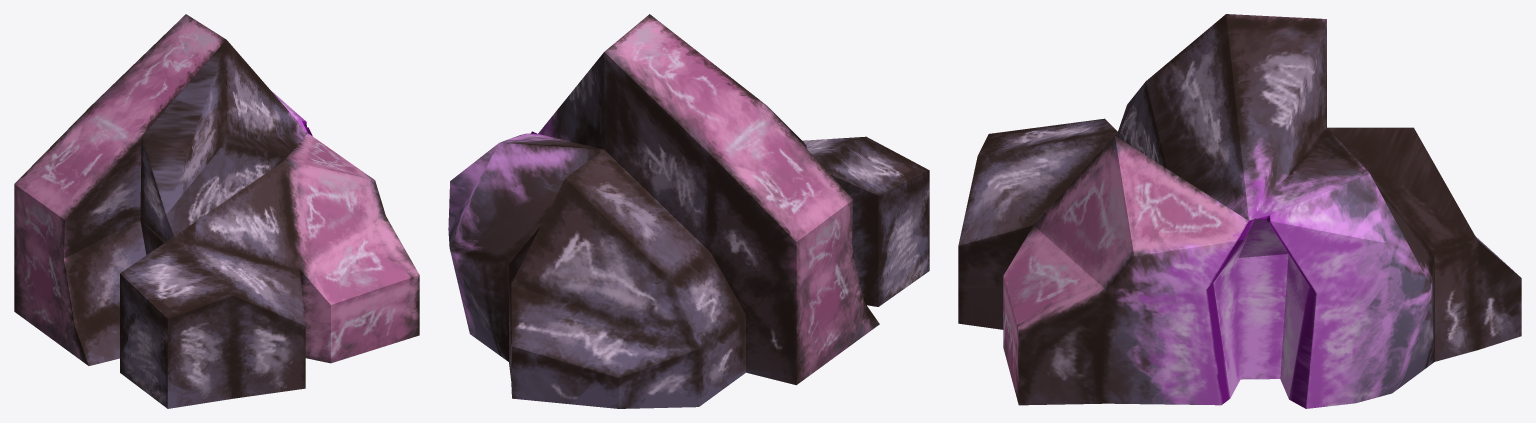
Rendered from Key_Hole.fbx.
3 views of the same model, side by side, from view 1: azimuth 30°, elevation 25°; view 2: azimuth 150°, elevation 25°; view 3: azimuth 270°, elevation 25° (orthographic). The views are drawn at different scales.
Parts seen in each view (by area): view 1: rock_keyhole; view 2: rock_keyhole; view 3: rock_keyhole.
Part boxes in pixels (x1,y1,x2,y2): rock_keyhole: (14, 14, 419, 408); rock_keyhole: (448, 14, 929, 408); rock_keyhole: (958, 14, 1521, 408).
Bounding box in the file's own units: 3.06 × 2.64 × 4.13.
